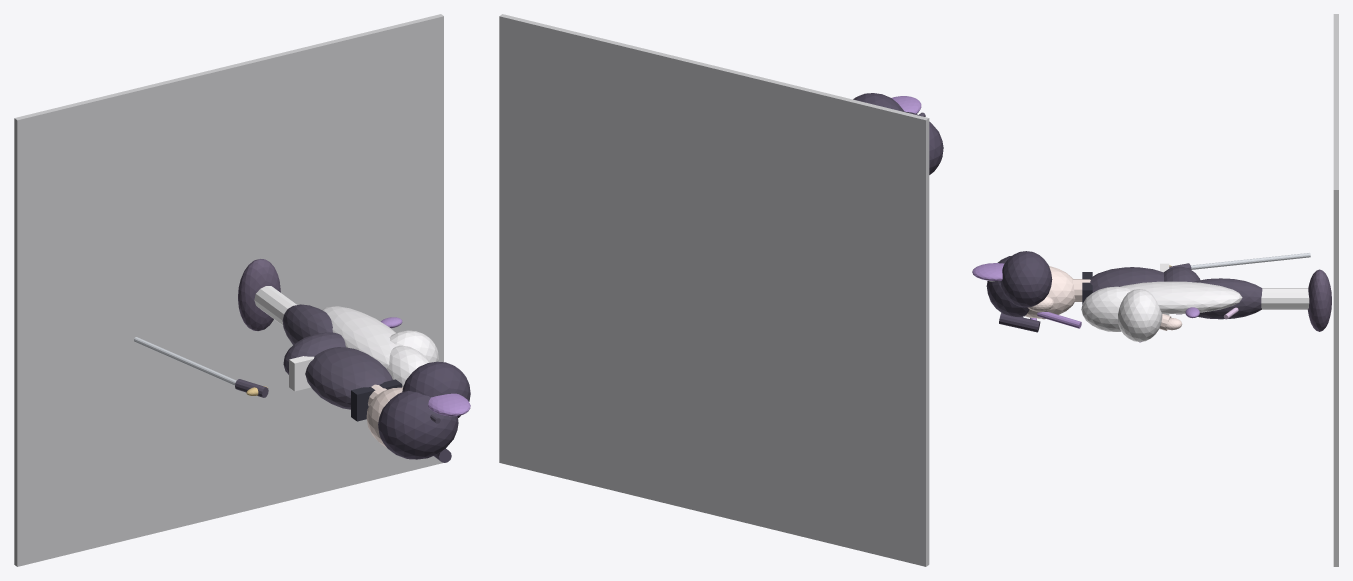
Rendered from shinobu_kocho_stylized_3d.glb.
3 renders of one model, left to right at view 1: azimuth 30°, elevation 25°; view 2: azimuth 150°, elevation 25°; view 3: azimuth 270°, elevation 25°, orthographic. The views are drawn at different scales.
Visible parts, largest first — view 1: ground, hair_cap, torso_uniform, haori_panel, platform_shoe, hair_bun, trouser_leg, hips, sleeve_upper, lower_leg, sleeve_flare, butterfly_wing (+4 smaller); view 2: ground, hair_cap; view 3: ground, haori_panel, hair_bun, sleeve_flare, sleeve_upper, trouser_leg, platform_shoe, torso_uniform, face, lower_leg, hair_cap, katana_blade (+3 smaller).
Boxes of the visible parts, bbox=[...] form: ground: bbox=[14, 14, 443, 566]; hair_cap: bbox=[378, 390, 458, 459]; torso_uniform: bbox=[305, 347, 392, 409]; haori_panel: bbox=[322, 306, 398, 368]; platform_shoe: bbox=[238, 259, 280, 330]; hair_bun: bbox=[402, 361, 470, 417]; trouser_leg: bbox=[282, 304, 332, 344]; hips: bbox=[283, 332, 345, 374]; sleeve_upper: bbox=[386, 345, 430, 387]; lower_leg: bbox=[254, 286, 296, 325]; sleeve_flare: bbox=[389, 330, 438, 362]; butterfly_wing: bbox=[428, 393, 470, 416]; ground: bbox=[499, 14, 929, 566]; hair_cap: bbox=[905, 111, 943, 174]; ground: bbox=[1333, 14, 1338, 566]; haori_panel: bbox=[1120, 281, 1242, 313]; hair_bun: bbox=[1000, 251, 1052, 307]; sleeve_flare: bbox=[1118, 289, 1162, 341]; sleeve_upper: bbox=[1081, 286, 1130, 331]; trouser_leg: bbox=[1193, 278, 1262, 319]; platform_shoe: bbox=[1308, 269, 1331, 331]; torso_uniform: bbox=[1090, 267, 1163, 292]; face: bbox=[1025, 266, 1075, 318]; lower_leg: bbox=[1261, 288, 1309, 309]; hair_cap: bbox=[986, 256, 1029, 316]; katana_blade: bbox=[1190, 253, 1310, 269].
Bounding box in the file's own units: 4 × 4 × 3.53.
